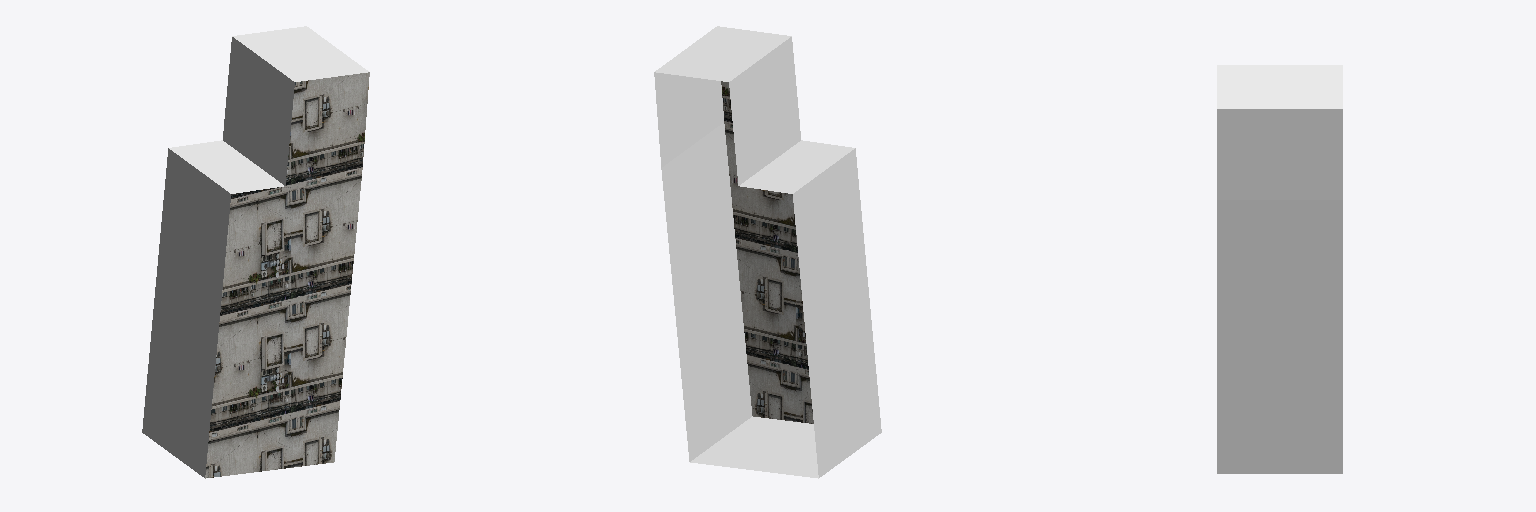
The picture shows the model from 3 angles: view 1: azimuth 30°, elevation 25°; view 2: azimuth 150°, elevation 25°; view 3: azimuth 270°, elevation 25°; orthographic projection.
Visible parts, largest first — view 1: Building; view 2: Building; view 3: Building.
Boxes of the visible parts, x1=… form: Building: x1=142, y1=26, x2=369, y2=478; Building: x1=654, y1=26, x2=881, y2=478; Building: x1=1217, y1=65, x2=1342, y2=473.
Size of the model in its own units: 4.53 by 10.24 by 3.
2 materials, 1 textured.